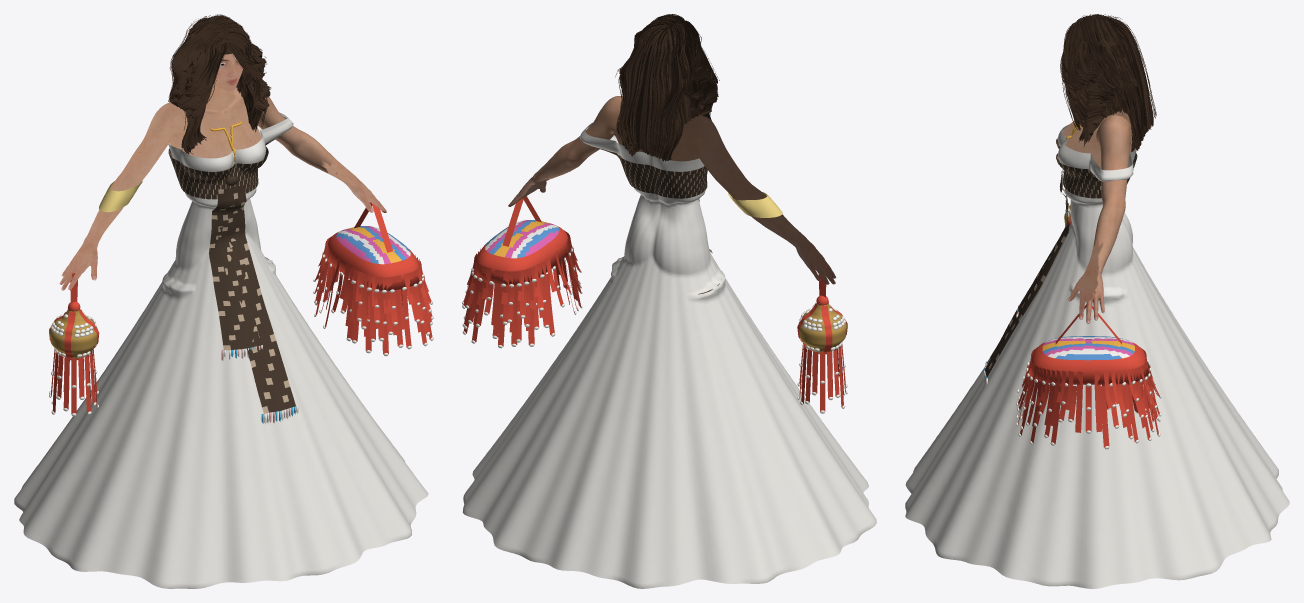
The model's file is female-oromo-white.glb.
3 views of the same model, side by side, from view 1: azimuth 30°, elevation 25°; view 2: azimuth 150°, elevation 25°; view 3: azimuth 270°, elevation 25° (orthographic).
Parts seen in each view (by area): view 1: WD_Dress, WD_Sash, WD_Basket, Hair_hair1_0, Full_Body_Arms1_0, WD_Gourd, Full_Body_Body1_0, Full_Body_Mouth Cavity1_0, WD_Armband; view 2: WD_Dress, WD_Basket, Hair_hair1_0, Full_Body_Arms1_0, WD_Gourd, WD_Sash, WD_Armband, Full_Body_Body1_0; view 3: WD_Dress, WD_Basket, Hair_hair1_0, Full_Body_Arms1_0, WD_Sash, Full_Body_Body1_0.
Boxes of the visible parts, bbox=[...] form: WD_Dress: bbox=[14, 112, 428, 588]; WD_Sash: bbox=[168, 136, 298, 424]; WD_Basket: bbox=[313, 202, 433, 356]; Hair_hair1_0: bbox=[168, 14, 271, 155]; Full_Body_Arms1_0: bbox=[60, 97, 386, 290]; WD_Gourd: bbox=[49, 272, 99, 416]; Full_Body_Body1_0: bbox=[170, 96, 261, 158]; Full_Body_Mouth Cavity1_0: bbox=[204, 53, 243, 114]; WD_Armband: bbox=[99, 180, 142, 212]; WD_Dress: bbox=[462, 122, 876, 588]; WD_Basket: bbox=[462, 196, 582, 348]; Hair_hair1_0: bbox=[615, 14, 719, 161]; Full_Body_Arms1_0: bbox=[508, 96, 835, 284]; WD_Gourd: bbox=[797, 265, 847, 413]; WD_Sash: bbox=[597, 147, 712, 253]; WD_Armband: bbox=[728, 192, 782, 217]; Full_Body_Body1_0: bbox=[614, 98, 698, 161]; WD_Dress: bbox=[905, 124, 1289, 588]; WD_Basket: bbox=[1016, 304, 1161, 449]; Hair_hair1_0: bbox=[1060, 14, 1156, 152]; Full_Body_Arms1_0: bbox=[1068, 115, 1131, 323]; WD_Sash: bbox=[983, 138, 1137, 385]; Full_Body_Body1_0: bbox=[1062, 109, 1132, 168].
Bounding box in the file's own units: 1.36 × 1.72 × 1.22.
Materials: 23 (8 with a texture image).
